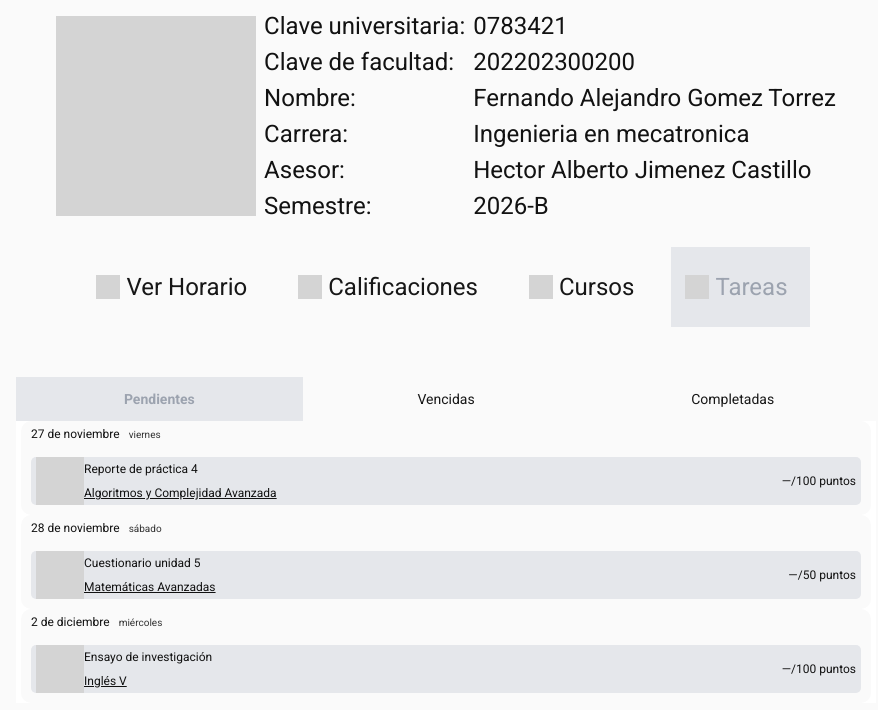
it: Página Tareas › muestra las pendientes por defecto y cambia al elegir otro filtro
Click the tab "Vencidas": (446, 399) [303, 377, 589, 421]
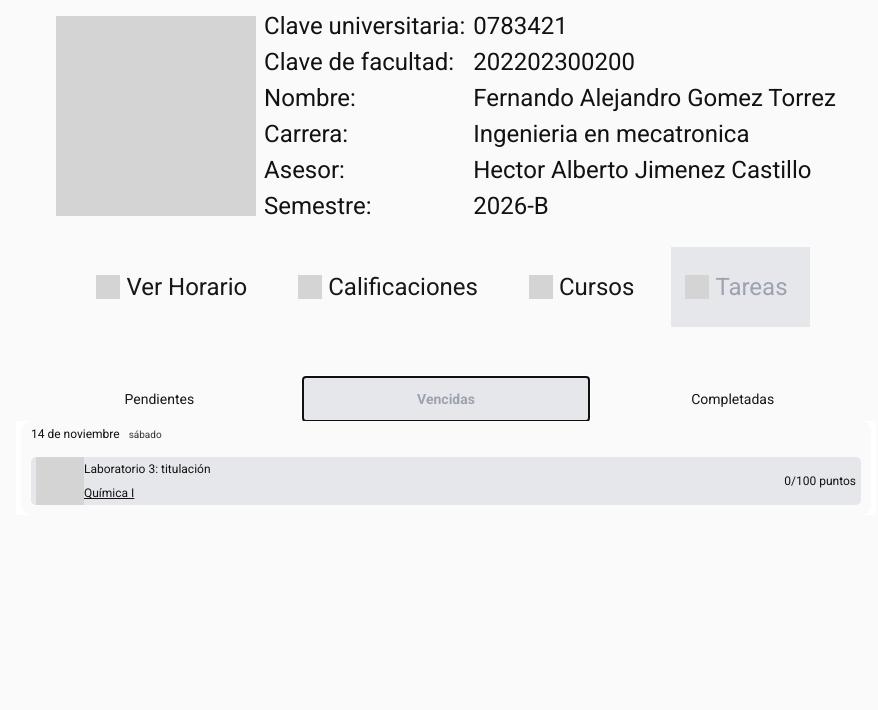
expect the text "Laboratorio 3: titulación" is shown: met, box [84, 461, 210, 477]
